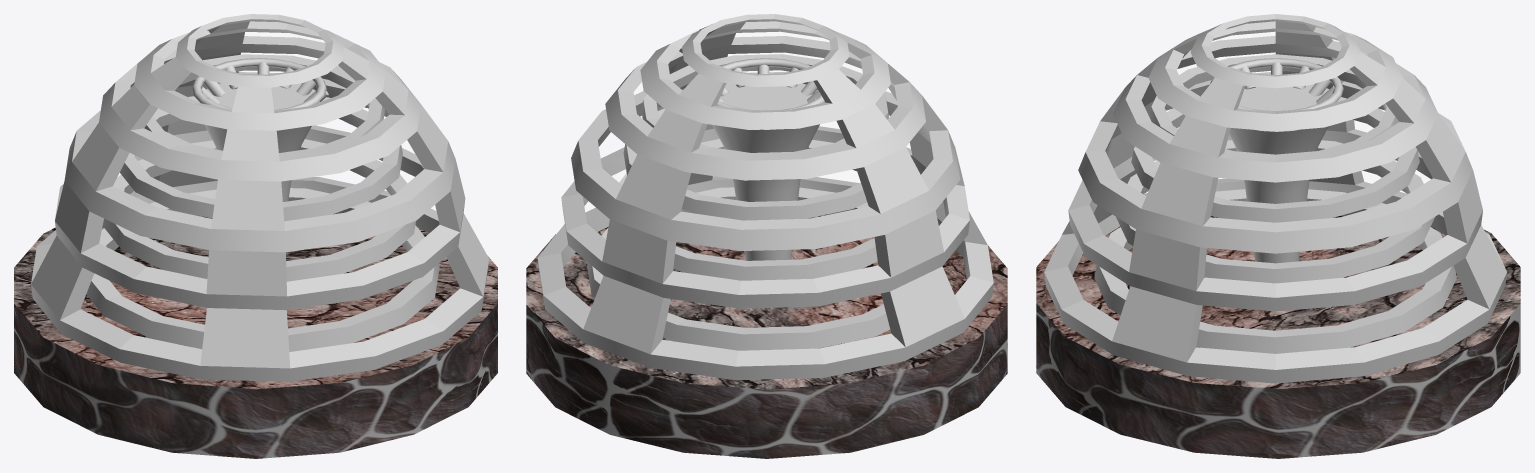
Rendered from building.FBX.
The picture shows the model from 3 angles, left to right: view 1: azimuth 30°, elevation 25°; view 2: azimuth 150°, elevation 25°; view 3: azimuth 270°, elevation 25°; orthographic projection.
Parts seen in each view (by area): view 1: Sphere001, Cylinder005, INhole, Cone001, Torus002; view 2: Sphere001, Cylinder005, INhole, Cone001, Torus002; view 3: Sphere001, Cylinder005, INhole, Cone001, Torus002.
Part boxes in pixels (left/top/right/bottom): Sphere001: left=31, top=14, right=489, bottom=381; Cylinder005: left=14, top=215, right=497, bottom=458; INhole: left=86, top=54, right=439, bottom=351; Cone001: left=196, top=83, right=322, bottom=201; Torus002: left=192, top=58, right=326, bottom=110; Sphere001: left=537, top=14, right=993, bottom=380; Cylinder005: left=526, top=214, right=1007, bottom=458; INhole: left=587, top=54, right=890, bottom=350; Cone001: left=712, top=83, right=819, bottom=260; Torus002: left=716, top=58, right=824, bottom=110; Sphere001: left=1044, top=14, right=1506, bottom=383; Cylinder005: left=1036, top=216, right=1520, bottom=458; INhole: left=1094, top=54, right=1456, bottom=353; Cone001: left=1229, top=83, right=1337, bottom=263; Torus002: left=1210, top=58, right=1343, bottom=111.
Size of the model in its own units: 116 by 81.12 by 114.
